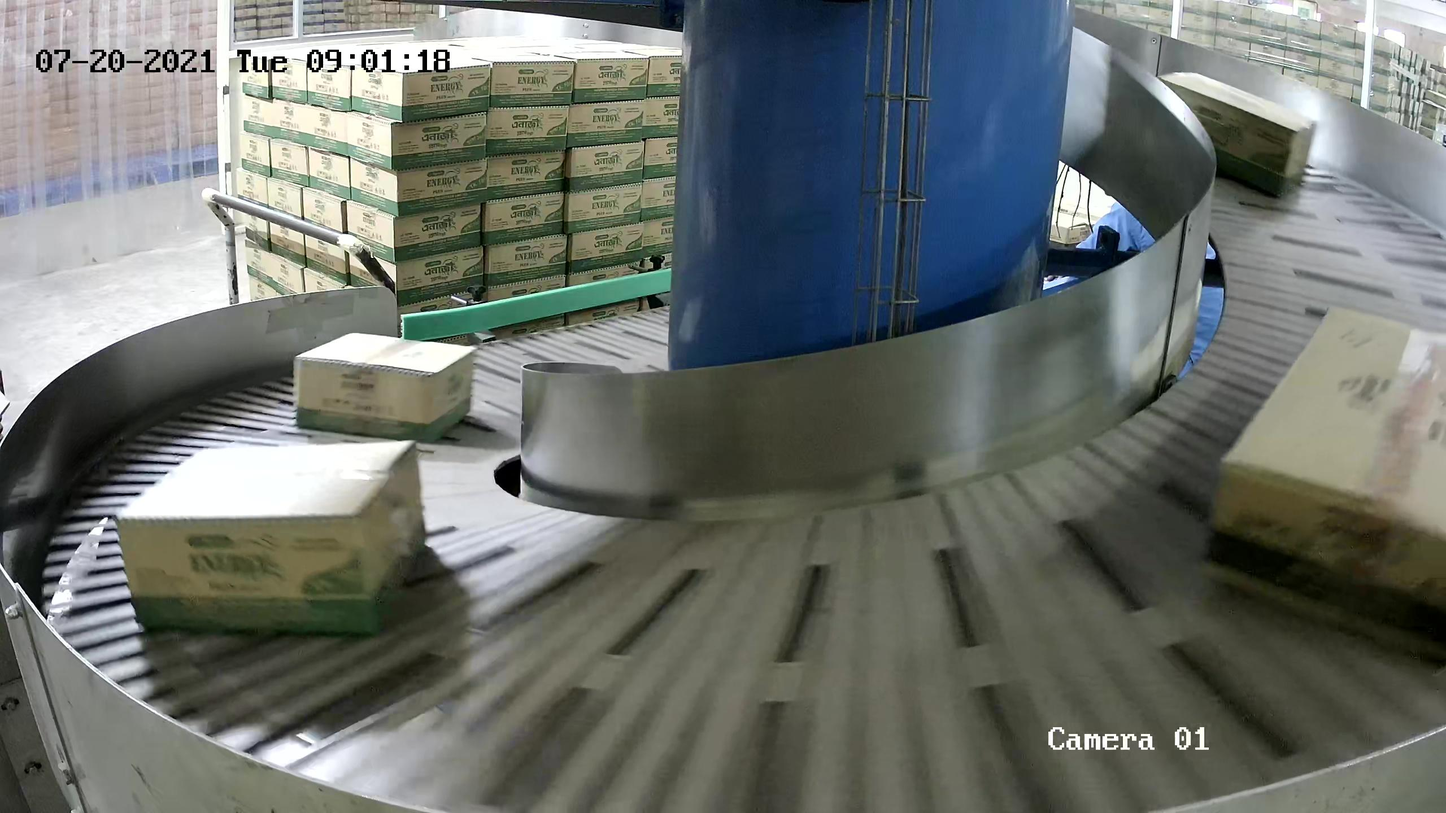Box: (1201, 298, 1446, 669), (116, 436, 431, 642), (293, 330, 478, 447), (1154, 70, 1318, 200)
